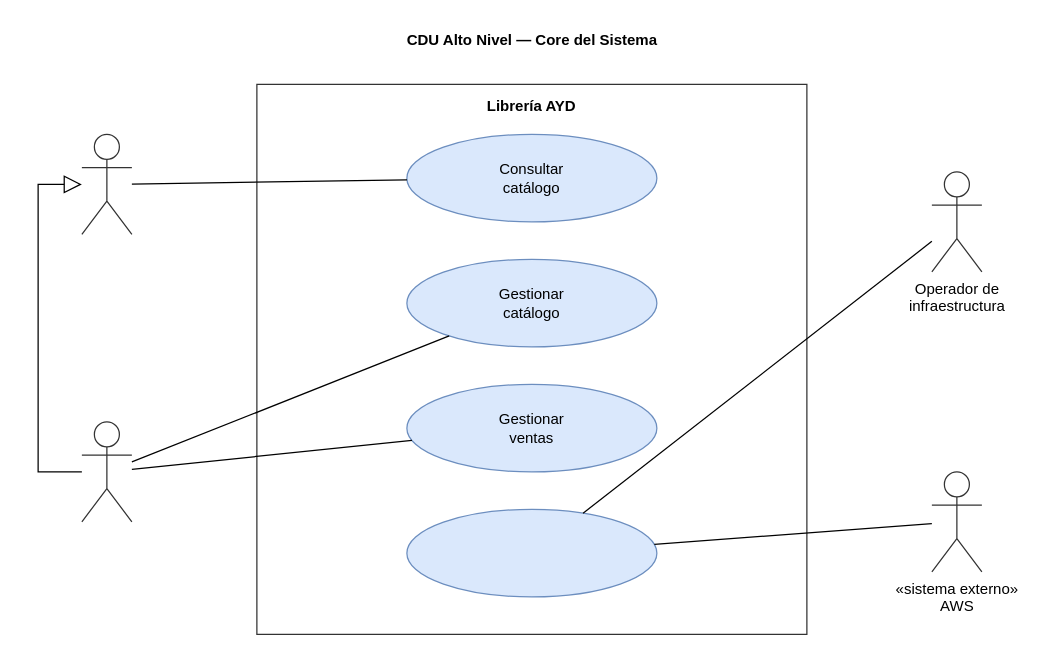
Image size: 1040x656. Some labels were removed from this diagram. The shapes that lost their labels are listed below. From the top down, each one's centre as x and y in pixels, then its label:
At point 106,183: "Cliente".
At point 106,471: "Administrador".
At point 531,552: "Aprovisionar y desplegar plataforma".
